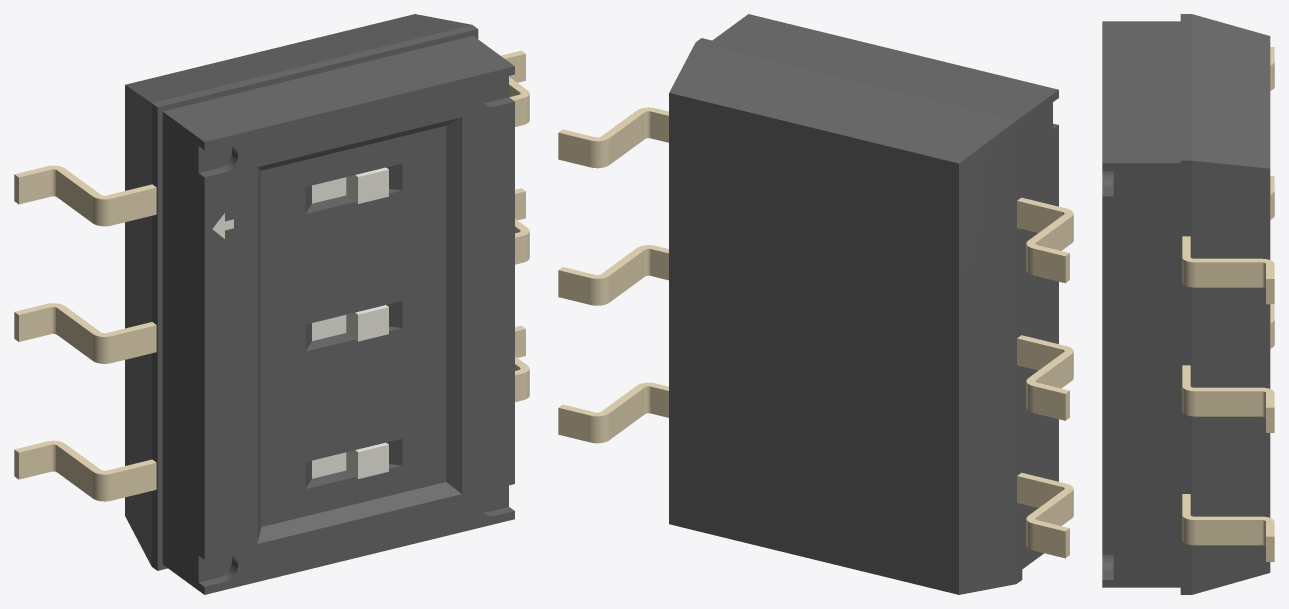
Rendered from SW_DIP_SPSTx03_Slide_Omron_A6S-310x_W8.9mm_P2.54mm.glb.
3 renders of one model, left to right at view 1: azimuth 30°, elevation 25°; view 2: azimuth 150°, elevation 25°; view 3: azimuth 270°, elevation 25°, orthographic. The views are drawn at different scales.
Parts seen in each view (by area): view 1: Shape_IndexedFaceSet.067, Shape_IndexedFaceSet.121, Shape_IndexedFaceSet.074, Shape_IndexedFaceSet.065, Shape_IndexedFaceSet.005, Shape_IndexedFaceSet.002, Shape_IndexedFaceSet.118, Shape_IndexedFaceSet.120, Shape_IndexedFaceSet.021, Shape_IndexedFaceSet.052, Shape_IndexedFaceSet.006, Shape_IndexedFaceSet.022 (+19 smaller); view 2: Shape_IndexedFaceSet.001, Shape_IndexedFaceSet.005, Shape_IndexedFaceSet.002, Shape_IndexedFaceSet.065, Shape_IndexedFaceSet.074, Shape_IndexedFaceSet.021, Shape_IndexedFaceSet.006, Shape_IndexedFaceSet.026, Shape_IndexedFaceSet.036, Shape_IndexedFaceSet.044, Shape_IndexedFaceSet.062, Shape_IndexedFaceSet.054 (+15 smaller); view 3: Shape_IndexedFaceSet.024, Shape_IndexedFaceSet, Shape_IndexedFaceSet.065, Shape_IndexedFaceSet.002, Shape_IndexedFaceSet.003, Shape_IndexedFaceSet.038, Shape_IndexedFaceSet.047, Shape_IndexedFaceSet.029, Shape_IndexedFaceSet.006, Shape_IndexedFaceSet.016, Shape_IndexedFaceSet.017, Shape_IndexedFaceSet.009 (+3 smaller).
Part boxes in pixels (x1,y1,x2,y2): Shape_IndexedFaceSet.067: [204, 66, 514, 594]; Shape_IndexedFaceSet.121: [261, 126, 446, 526]; Shape_IndexedFaceSet.074: [162, 112, 204, 594]; Shape_IndexedFaceSet.065: [163, 36, 514, 141]; Shape_IndexedFaceSet.005: [125, 85, 151, 565]; Shape_IndexedFaceSet.002: [125, 14, 471, 102]; Shape_IndexedFaceSet.118: [446, 117, 461, 493]; Shape_IndexedFaceSet.120: [257, 482, 461, 543]; Shape_IndexedFaceSet.021: [151, 103, 157, 570]; Shape_IndexedFaceSet.052: [157, 108, 162, 570]; Shape_IndexedFaceSet.006: [152, 25, 477, 107]; Shape_IndexedFaceSet.022: [158, 29, 477, 111]; Shape_IndexedFaceSet.001: [669, 93, 958, 594]; Shape_IndexedFaceSet.005: [959, 121, 1016, 594]; Shape_IndexedFaceSet.002: [669, 42, 1015, 163]; Shape_IndexedFaceSet.065: [712, 14, 1058, 116]; Shape_IndexedFaceSet.074: [1022, 90, 1058, 568]; Shape_IndexedFaceSet.021: [1016, 116, 1022, 583]; Shape_IndexedFaceSet.006: [696, 38, 1021, 120]; Shape_IndexedFaceSet.026: [609, 387, 644, 440]; Shape_IndexedFaceSet.036: [609, 250, 644, 302]; Shape_IndexedFaceSet.044: [609, 112, 644, 164]; Shape_IndexedFaceSet.062: [1017, 476, 1062, 507]; Shape_IndexedFaceSet.054: [1017, 338, 1062, 370]; Shape_IndexedFaceSet.024: [1102, 163, 1180, 587]; Shape_IndexedFaceSet: [1192, 160, 1270, 594]; Shape_IndexedFaceSet.065: [1102, 21, 1180, 163]; Shape_IndexedFaceSet.002: [1192, 14, 1270, 168]; Shape_IndexedFaceSet.003: [1180, 160, 1191, 594]; Shape_IndexedFaceSet.038: [1194, 391, 1261, 416]; Shape_IndexedFaceSet.047: [1194, 262, 1261, 287]; Shape_IndexedFaceSet.029: [1194, 520, 1261, 545]; Shape_IndexedFaceSet.006: [1180, 14, 1191, 160]; Shape_IndexedFaceSet.016: [1182, 365, 1274, 407]; Shape_IndexedFaceSet.017: [1182, 236, 1274, 278]; Shape_IndexedFaceSet.009: [1182, 494, 1274, 536].
Bounding box in the file's own units: 3.86 × 3.37 × 1.21.
